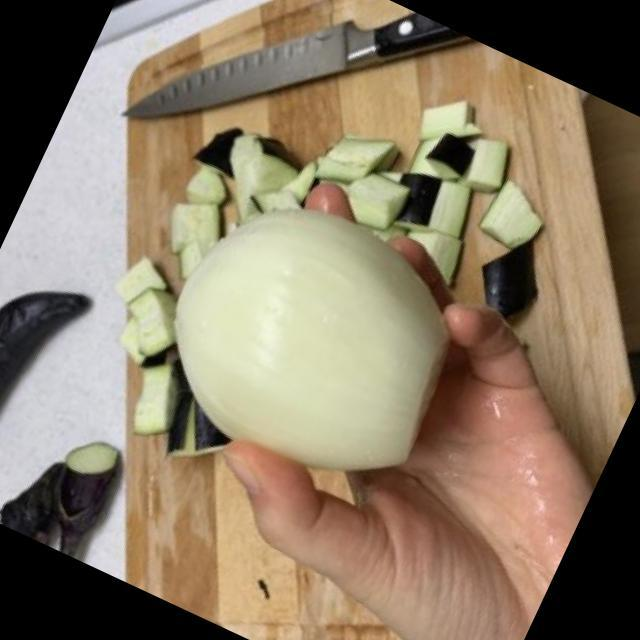Onion: (175, 209, 455, 471)
